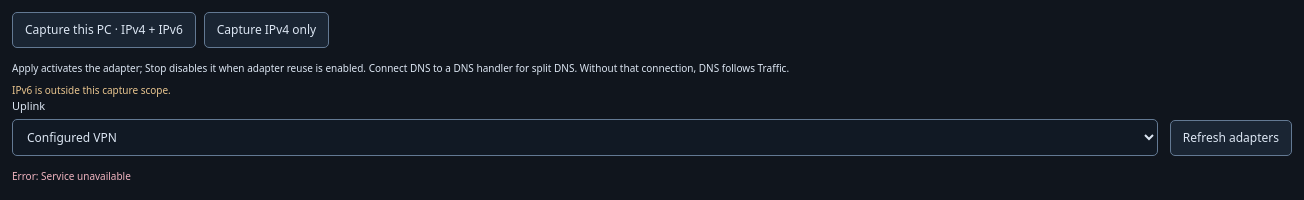
can retry a failed inventory without losing the configured adapter
Expected: the message "Error: Service unavailable" is shown, [12, 169, 131, 183]
Expected: the dropdown labelled "Uplink" shows "Configured VPN", [12, 119, 1158, 156]
Click the button "Refresh adapters": [1231, 138] box [1170, 120, 1292, 156]
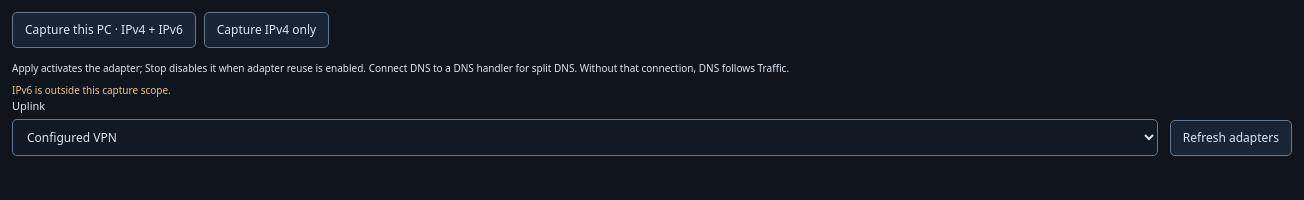
Expected: the message "Error: Service unavailable" is gone
